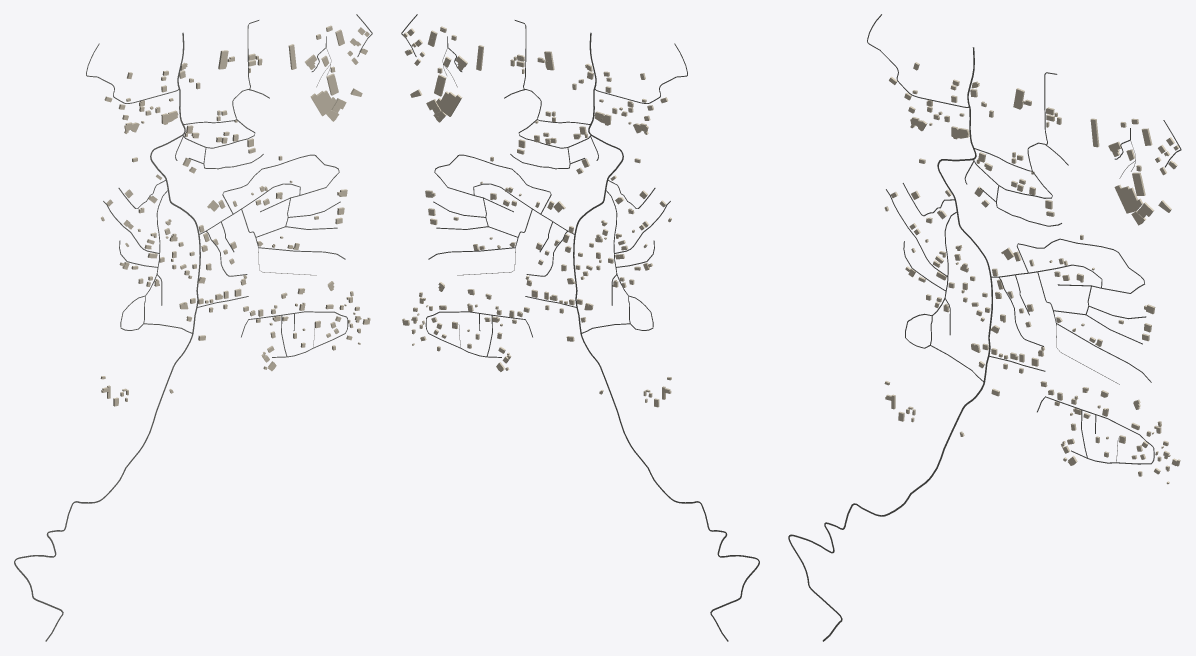
Rendered from historic-palestine-10_22_3520_3167.glb.
The picture shows the model from 3 angles, left to right: view 1: azimuth 30°, elevation 25°; view 2: azimuth 150°, elevation 25°; view 3: azimuth 330°, elevation 25°; orthographic projection. The views are drawn at different scales.
Visible parts, largest first — view 1: Road; view 2: Road; view 3: Road.
Boxes of the visible parts, bbox=[...] form: Road: bbox=[14, 32, 200, 641]; Road: bbox=[573, 32, 759, 641]; Road: bbox=[788, 47, 992, 641].
Size of the model in its own units: 1282 by 2000 by 8.7.
